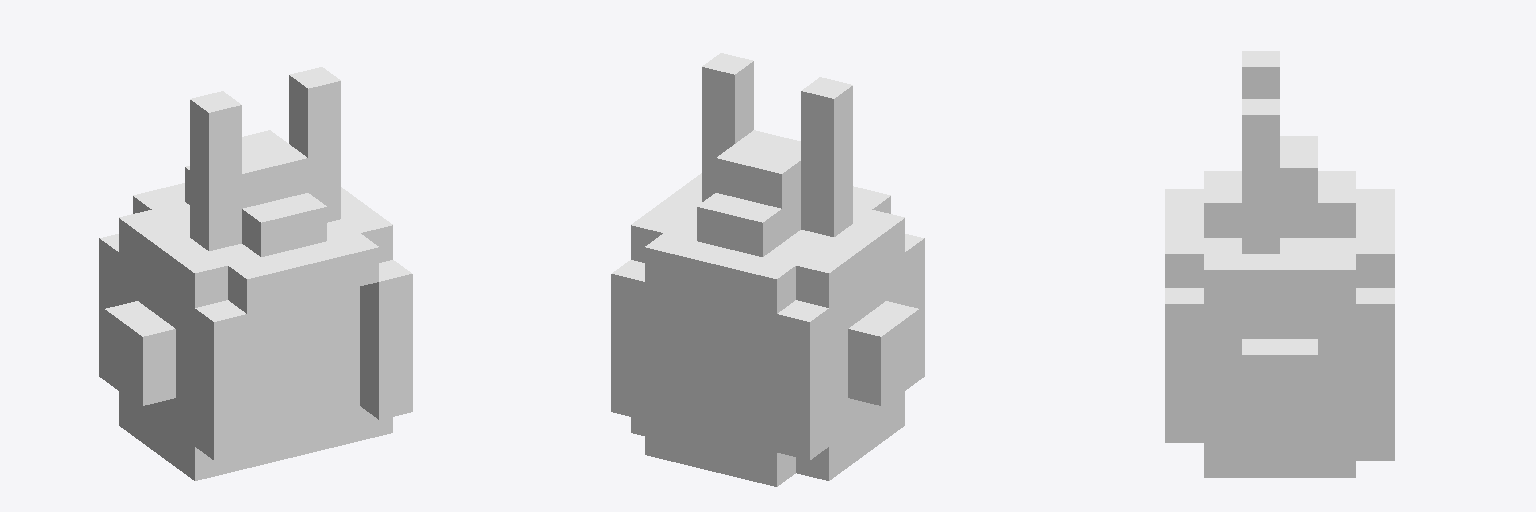
The model's file is Dragon_small-7.obj.
3 renders of one model, left to right at view 1: azimuth 30°, elevation 25°; view 2: azimuth 150°, elevation 25°; view 3: azimuth 270°, elevation 25°, orthographic.
Parts seen in each view (by area): view 1: object 1; view 2: object 1; view 3: object 1.
Part boxes in pixels (bbox=[...]): object 1: bbox=[99, 67, 412, 480]; object 1: bbox=[611, 53, 924, 486]; object 1: bbox=[1165, 51, 1394, 477].
Size of the model in its own units: 0.8 by 1 by 0.6.